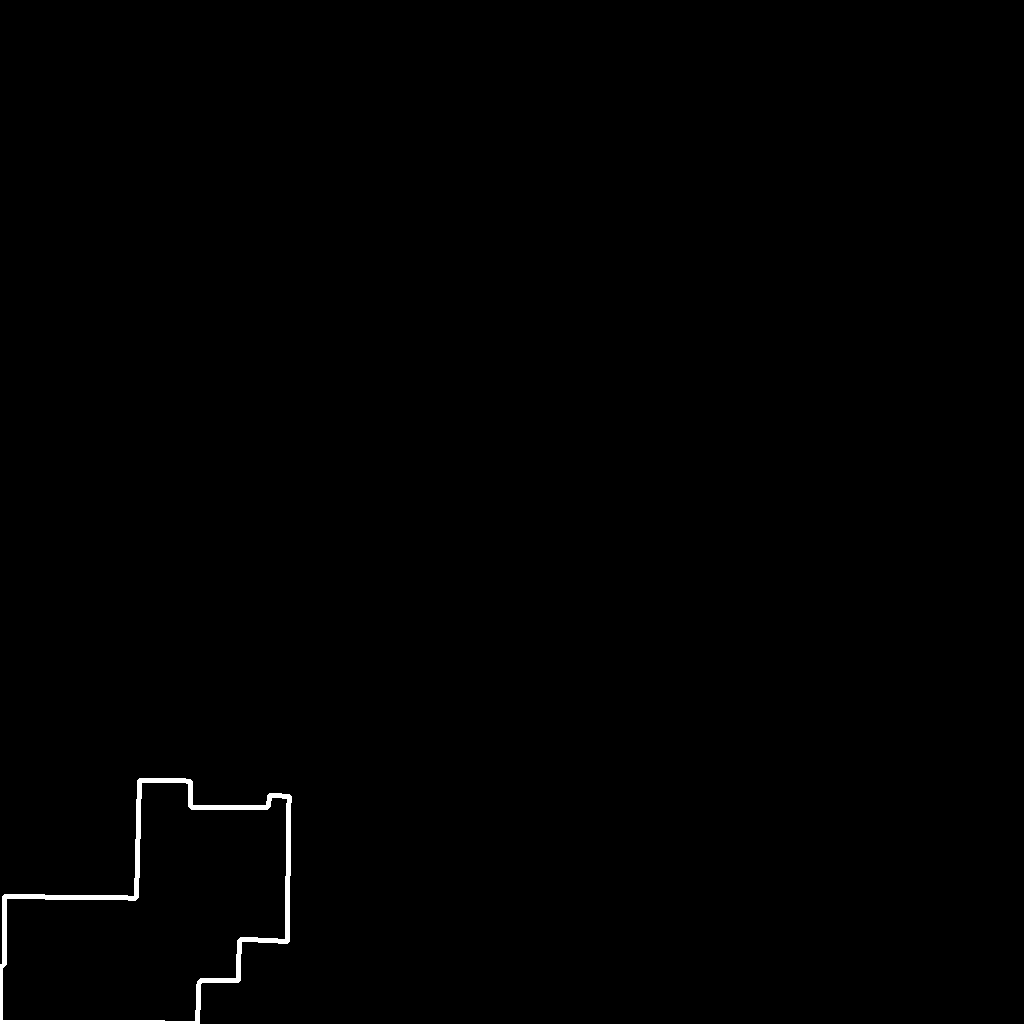building: (0, 780, 290, 1024)
